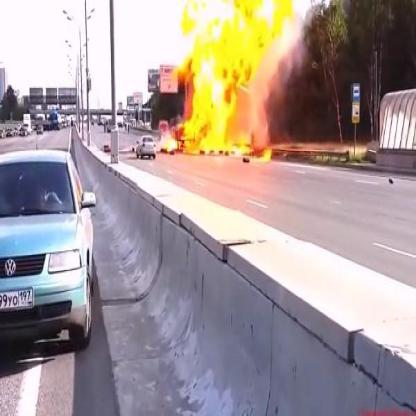fire: (163, 1, 297, 165)
